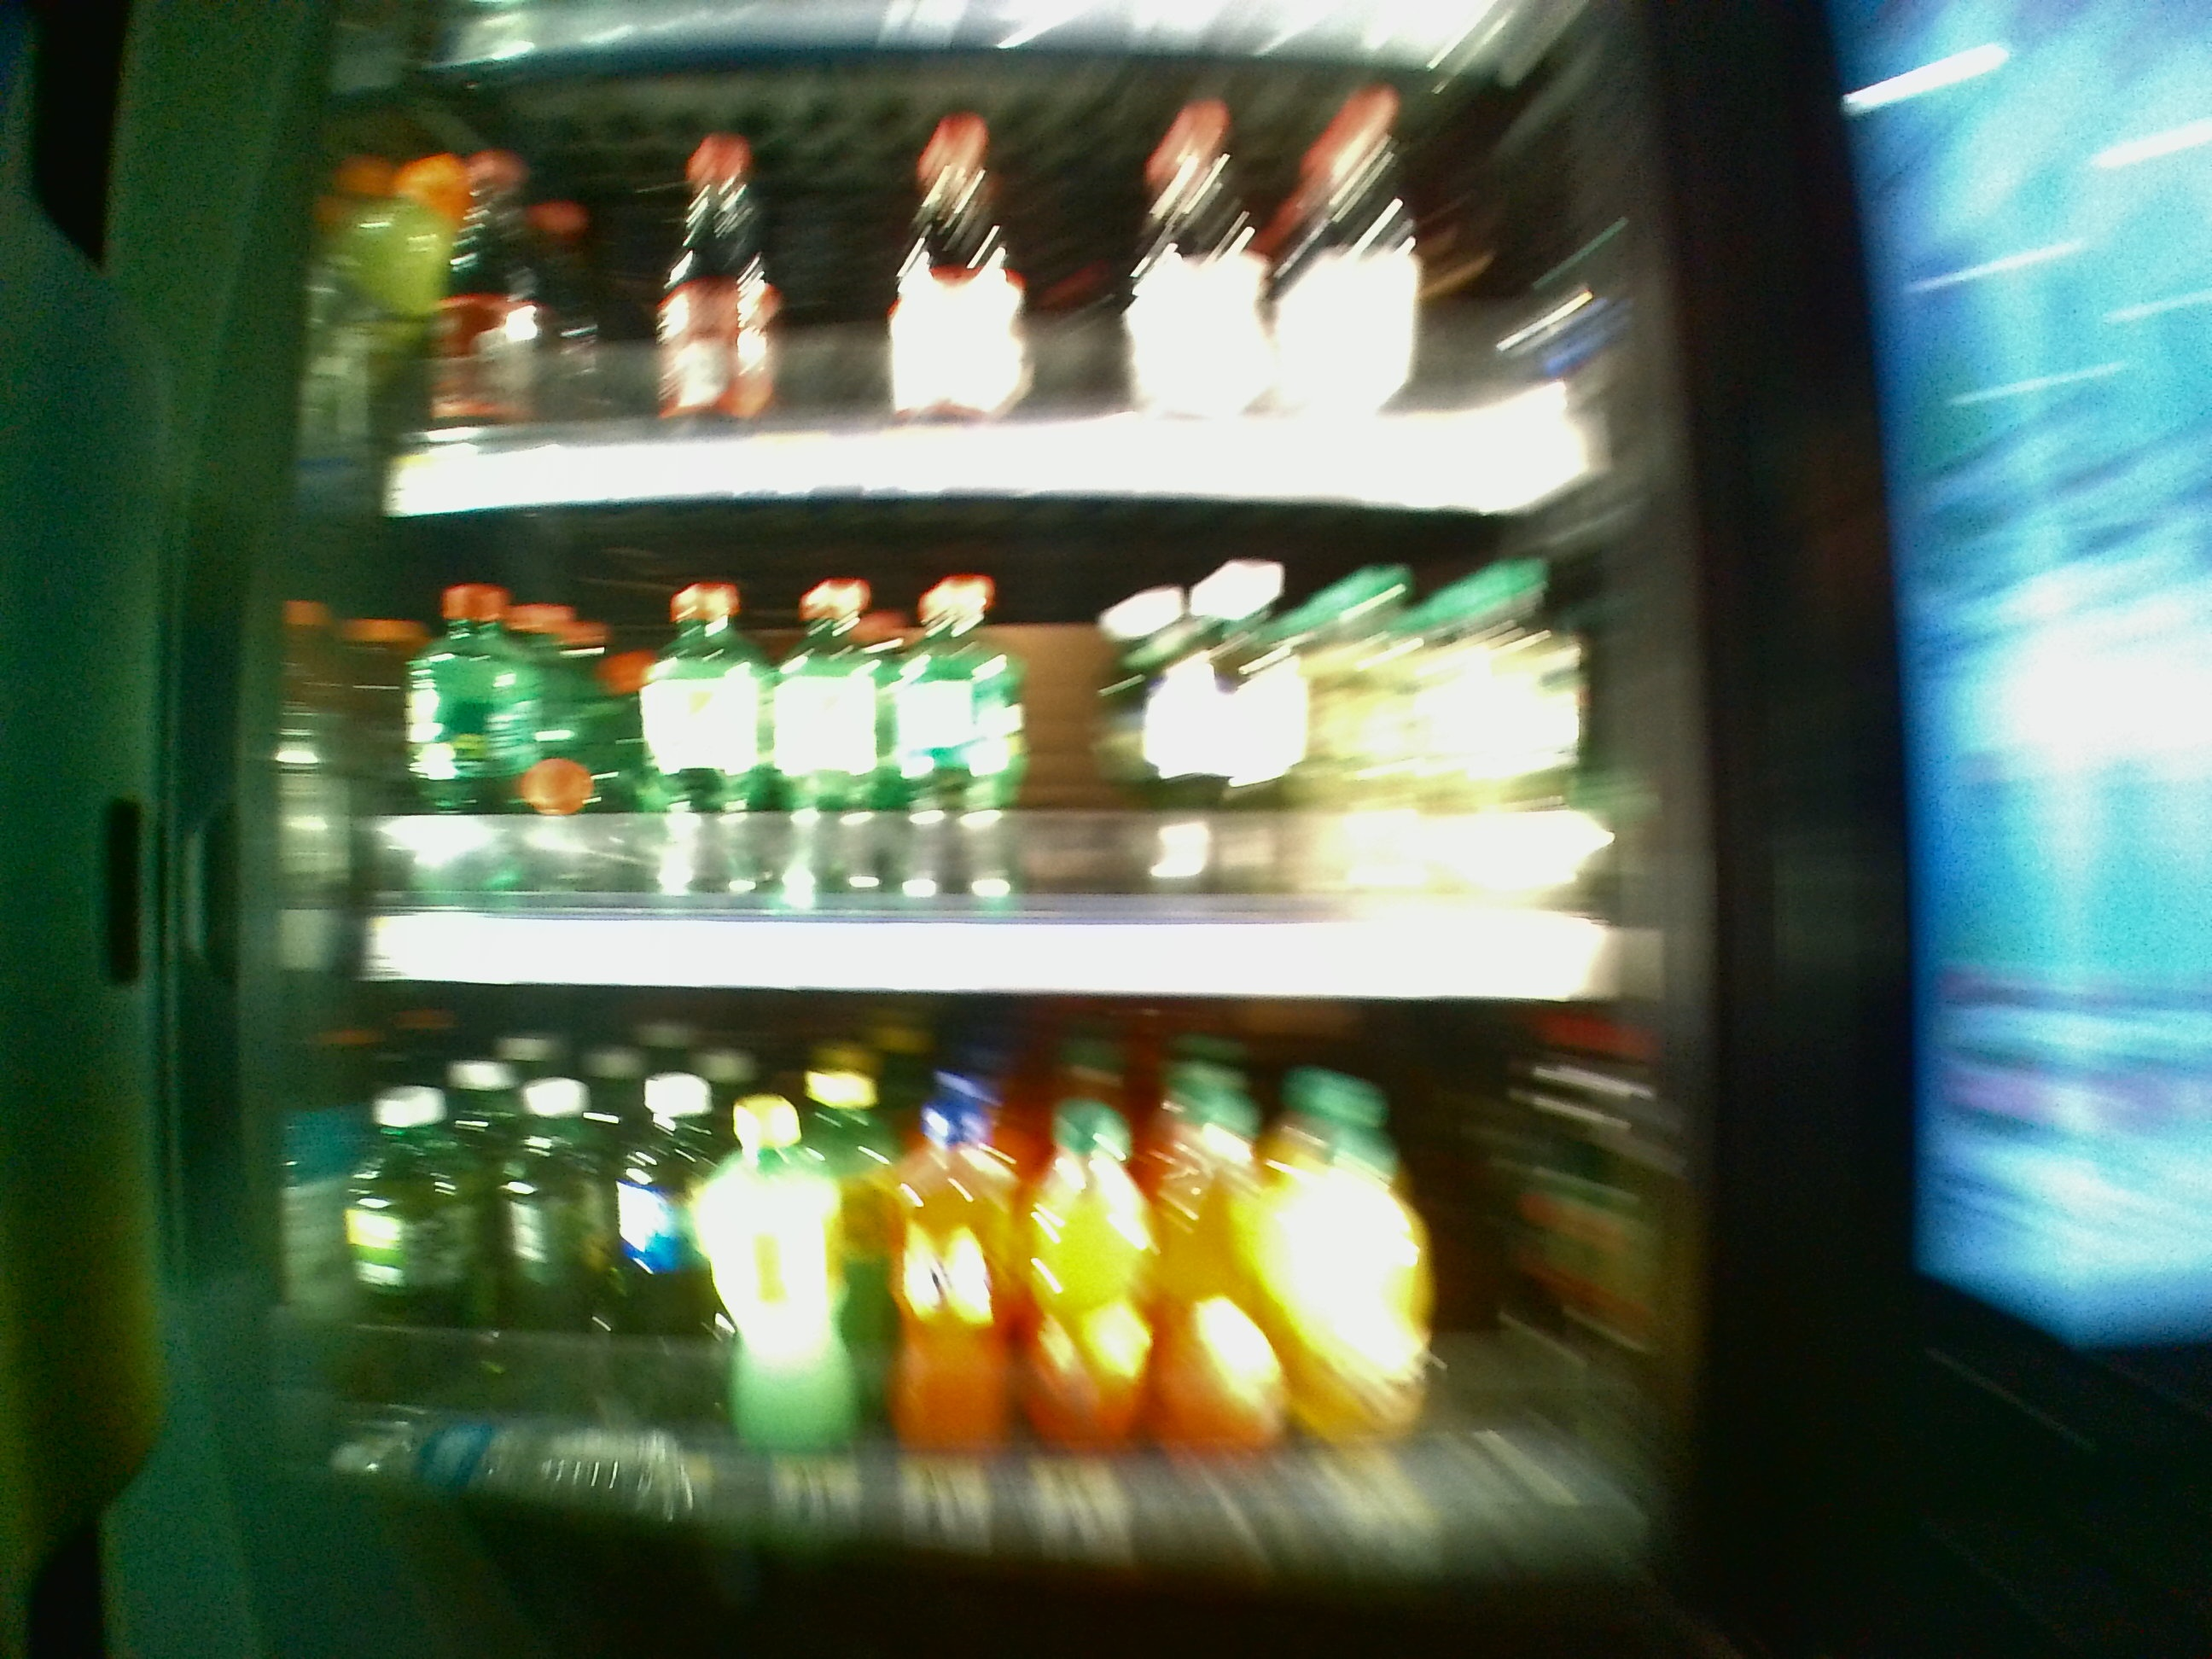shelf: (355, 1018, 1622, 1561), (355, 512, 1622, 1000)
